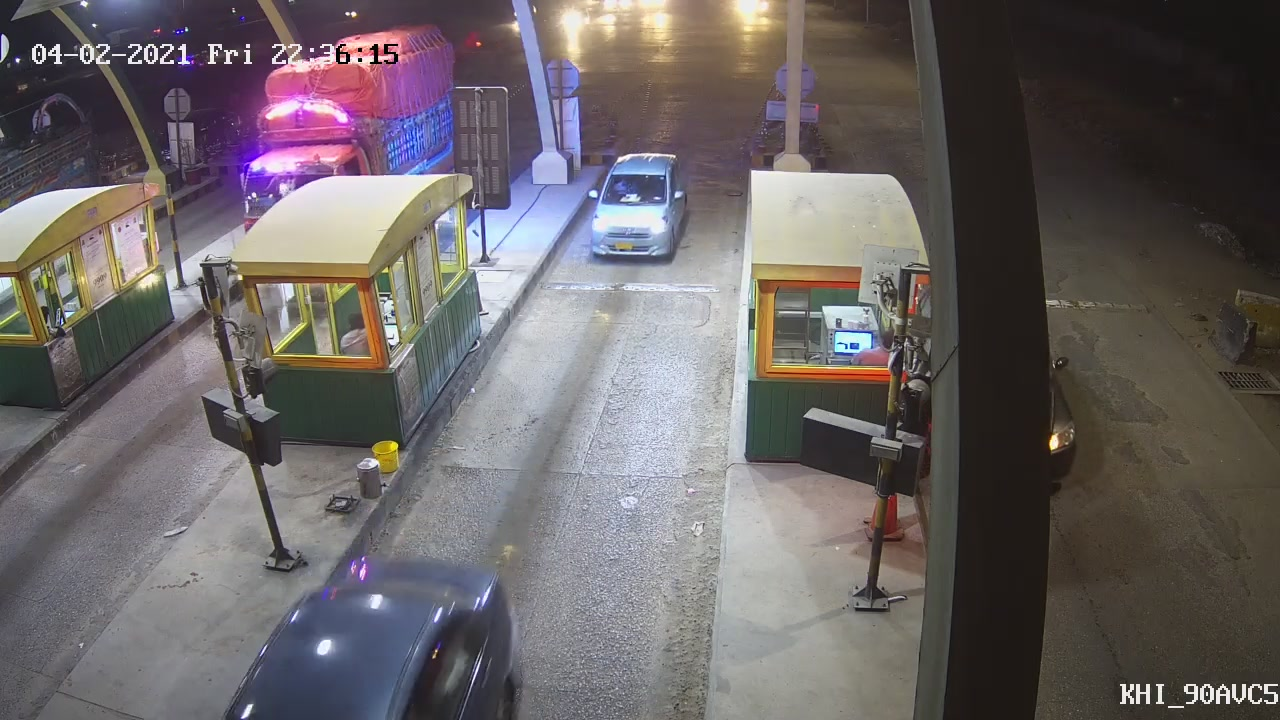F1: (572, 148, 691, 265)
